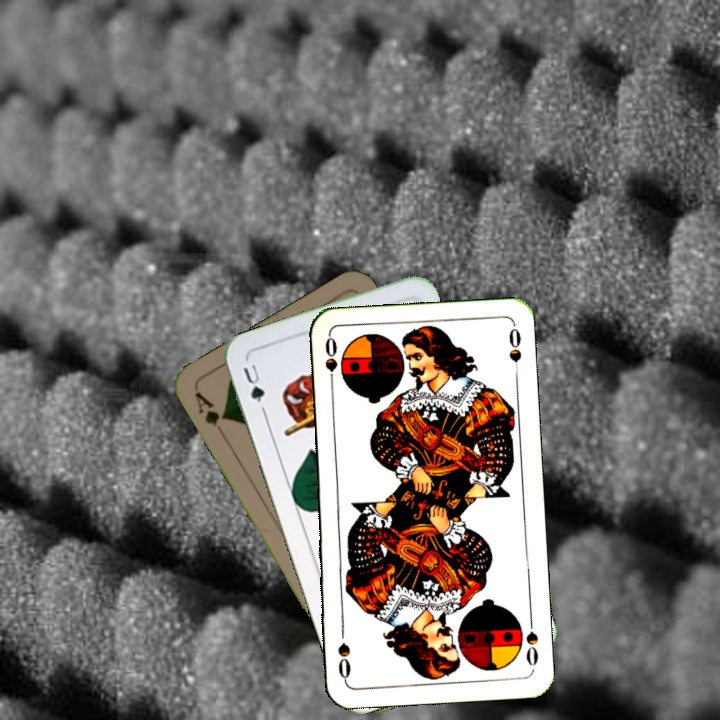GA: (190, 387, 230, 441)
GU: (238, 359, 268, 415)
SO: (521, 612, 541, 669), (321, 333, 340, 392)
